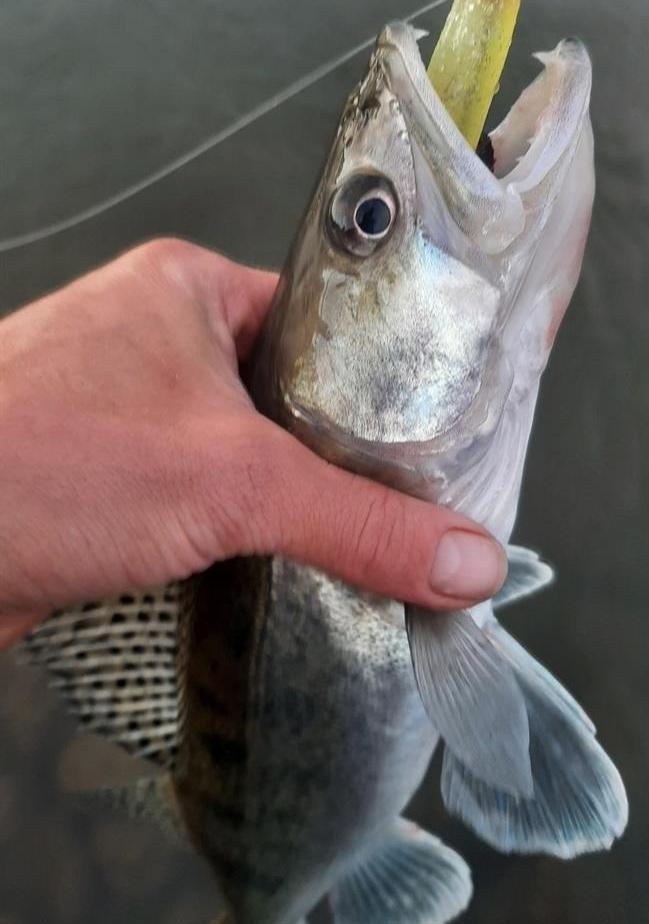Sander lucioperca: (18, 20, 629, 924)
